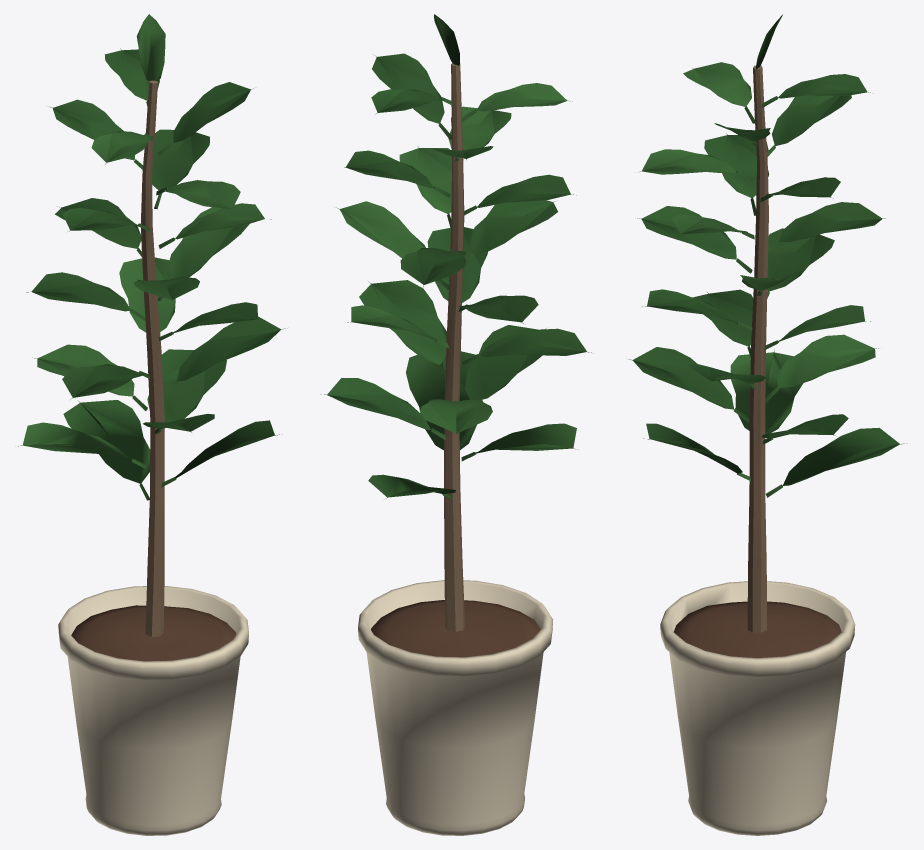
File: fiddleFig.glb
The picture shows the model from 3 angles, left to right: view 1: azimuth 30°, elevation 25°; view 2: azimuth 150°, elevation 25°; view 3: azimuth 270°, elevation 25°; orthographic projection. The views are drawn at different scales.
Visible parts, largest first — view 1: fiddleFig; view 2: fiddleFig; view 3: fiddleFig.
Boxes of the visible parts, box(x1,y1,x2,y2) form: fiddleFig: box(18, 14, 285, 835); fiddleFig: box(321, 14, 591, 835); fiddleFig: box(629, 14, 906, 835).
Size of the model in its own units: 0.528 by 1.63 by 0.527.
